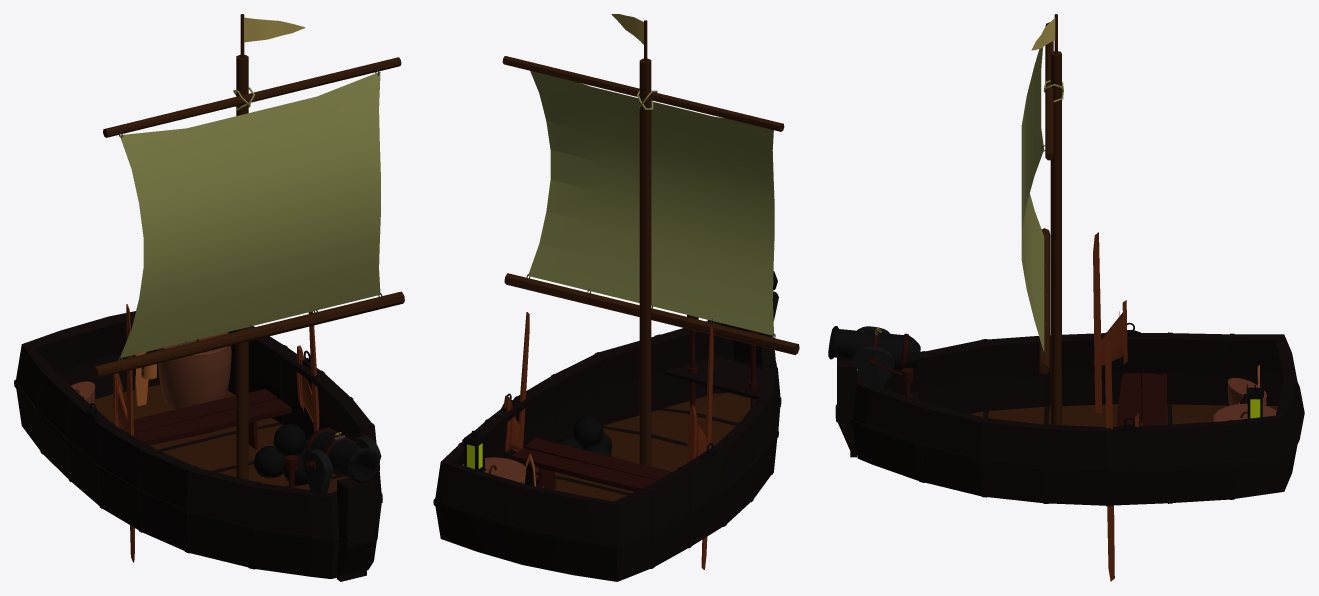
The model's file is Boat_2t_2.fbx.
The picture shows the model from 3 angles, left to right: view 1: azimuth 30°, elevation 25°; view 2: azimuth 150°, elevation 25°; view 3: azimuth 270°, elevation 25°; orthographic projection. The views are drawn at different scales.
Parts seen in each view (by area): view 1: Boat_2, barrel1, CannonBall, row2, row1; view 2: Boat_2, row2, CannonBall, row1, barrel1, lamp; view 3: Boat_2, row2, row1, barrel1.
Part boxes in pixels (x1,y1,x2,y2): Boat_2: (14, 14, 404, 581); barrel1: (157, 332, 231, 408); CannonBall: (253, 423, 307, 484); row2: (112, 304, 134, 562); row1: (296, 311, 319, 432); Boat_2: (433, 14, 799, 581); row2: (687, 326, 713, 569); CannonBall: (557, 416, 612, 456); row1: (503, 312, 529, 463); barrel1: (462, 457, 525, 483); lamp: (462, 430, 486, 471); Boat_2: (828, 14, 1304, 506); row2: (1093, 232, 1127, 412); row1: (1105, 339, 1138, 581); barrel1: (1213, 403, 1276, 421).
Bounding box in the file's own units: 56.27 × 99.91 × 83.27.
